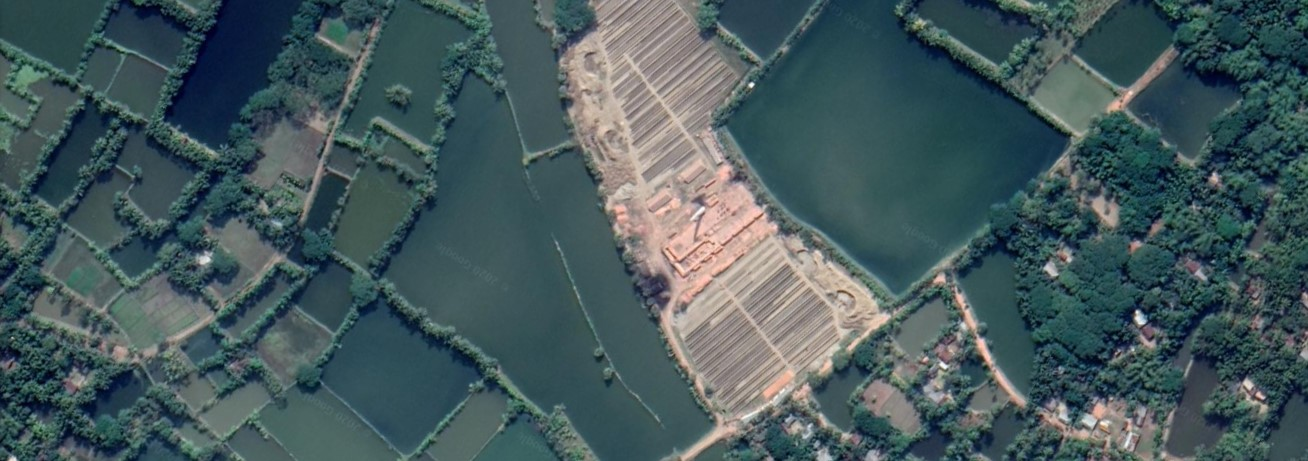kiln: (666, 190, 752, 256)
